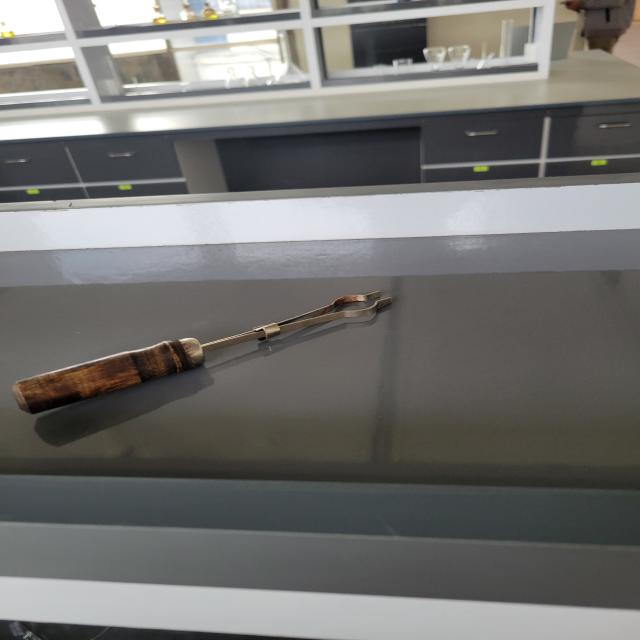TestTube_Holder: (0, 270, 450, 432)
